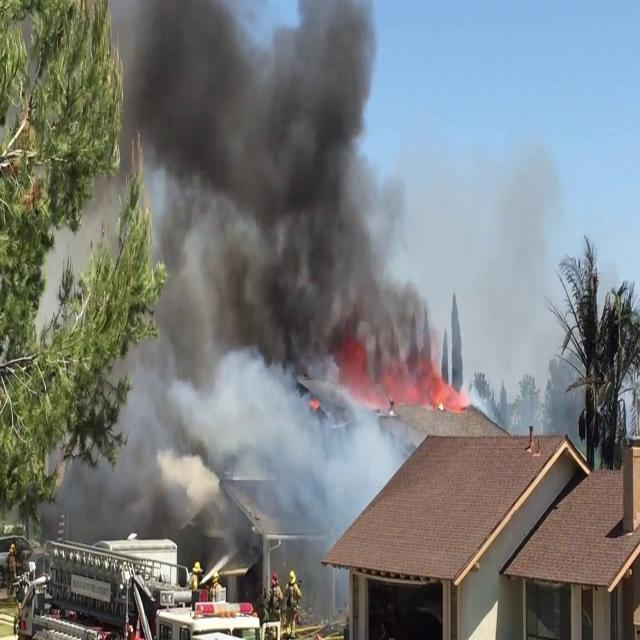Fire: (430, 368, 468, 416)
Smoke: (108, 0, 418, 579)
